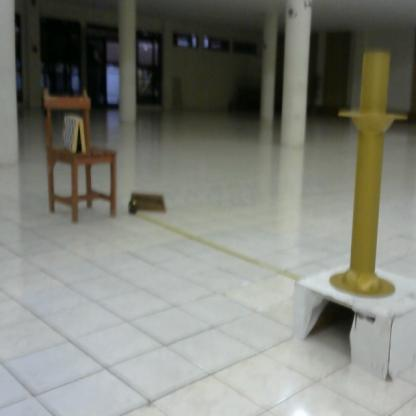pole: (325, 46, 412, 310)
